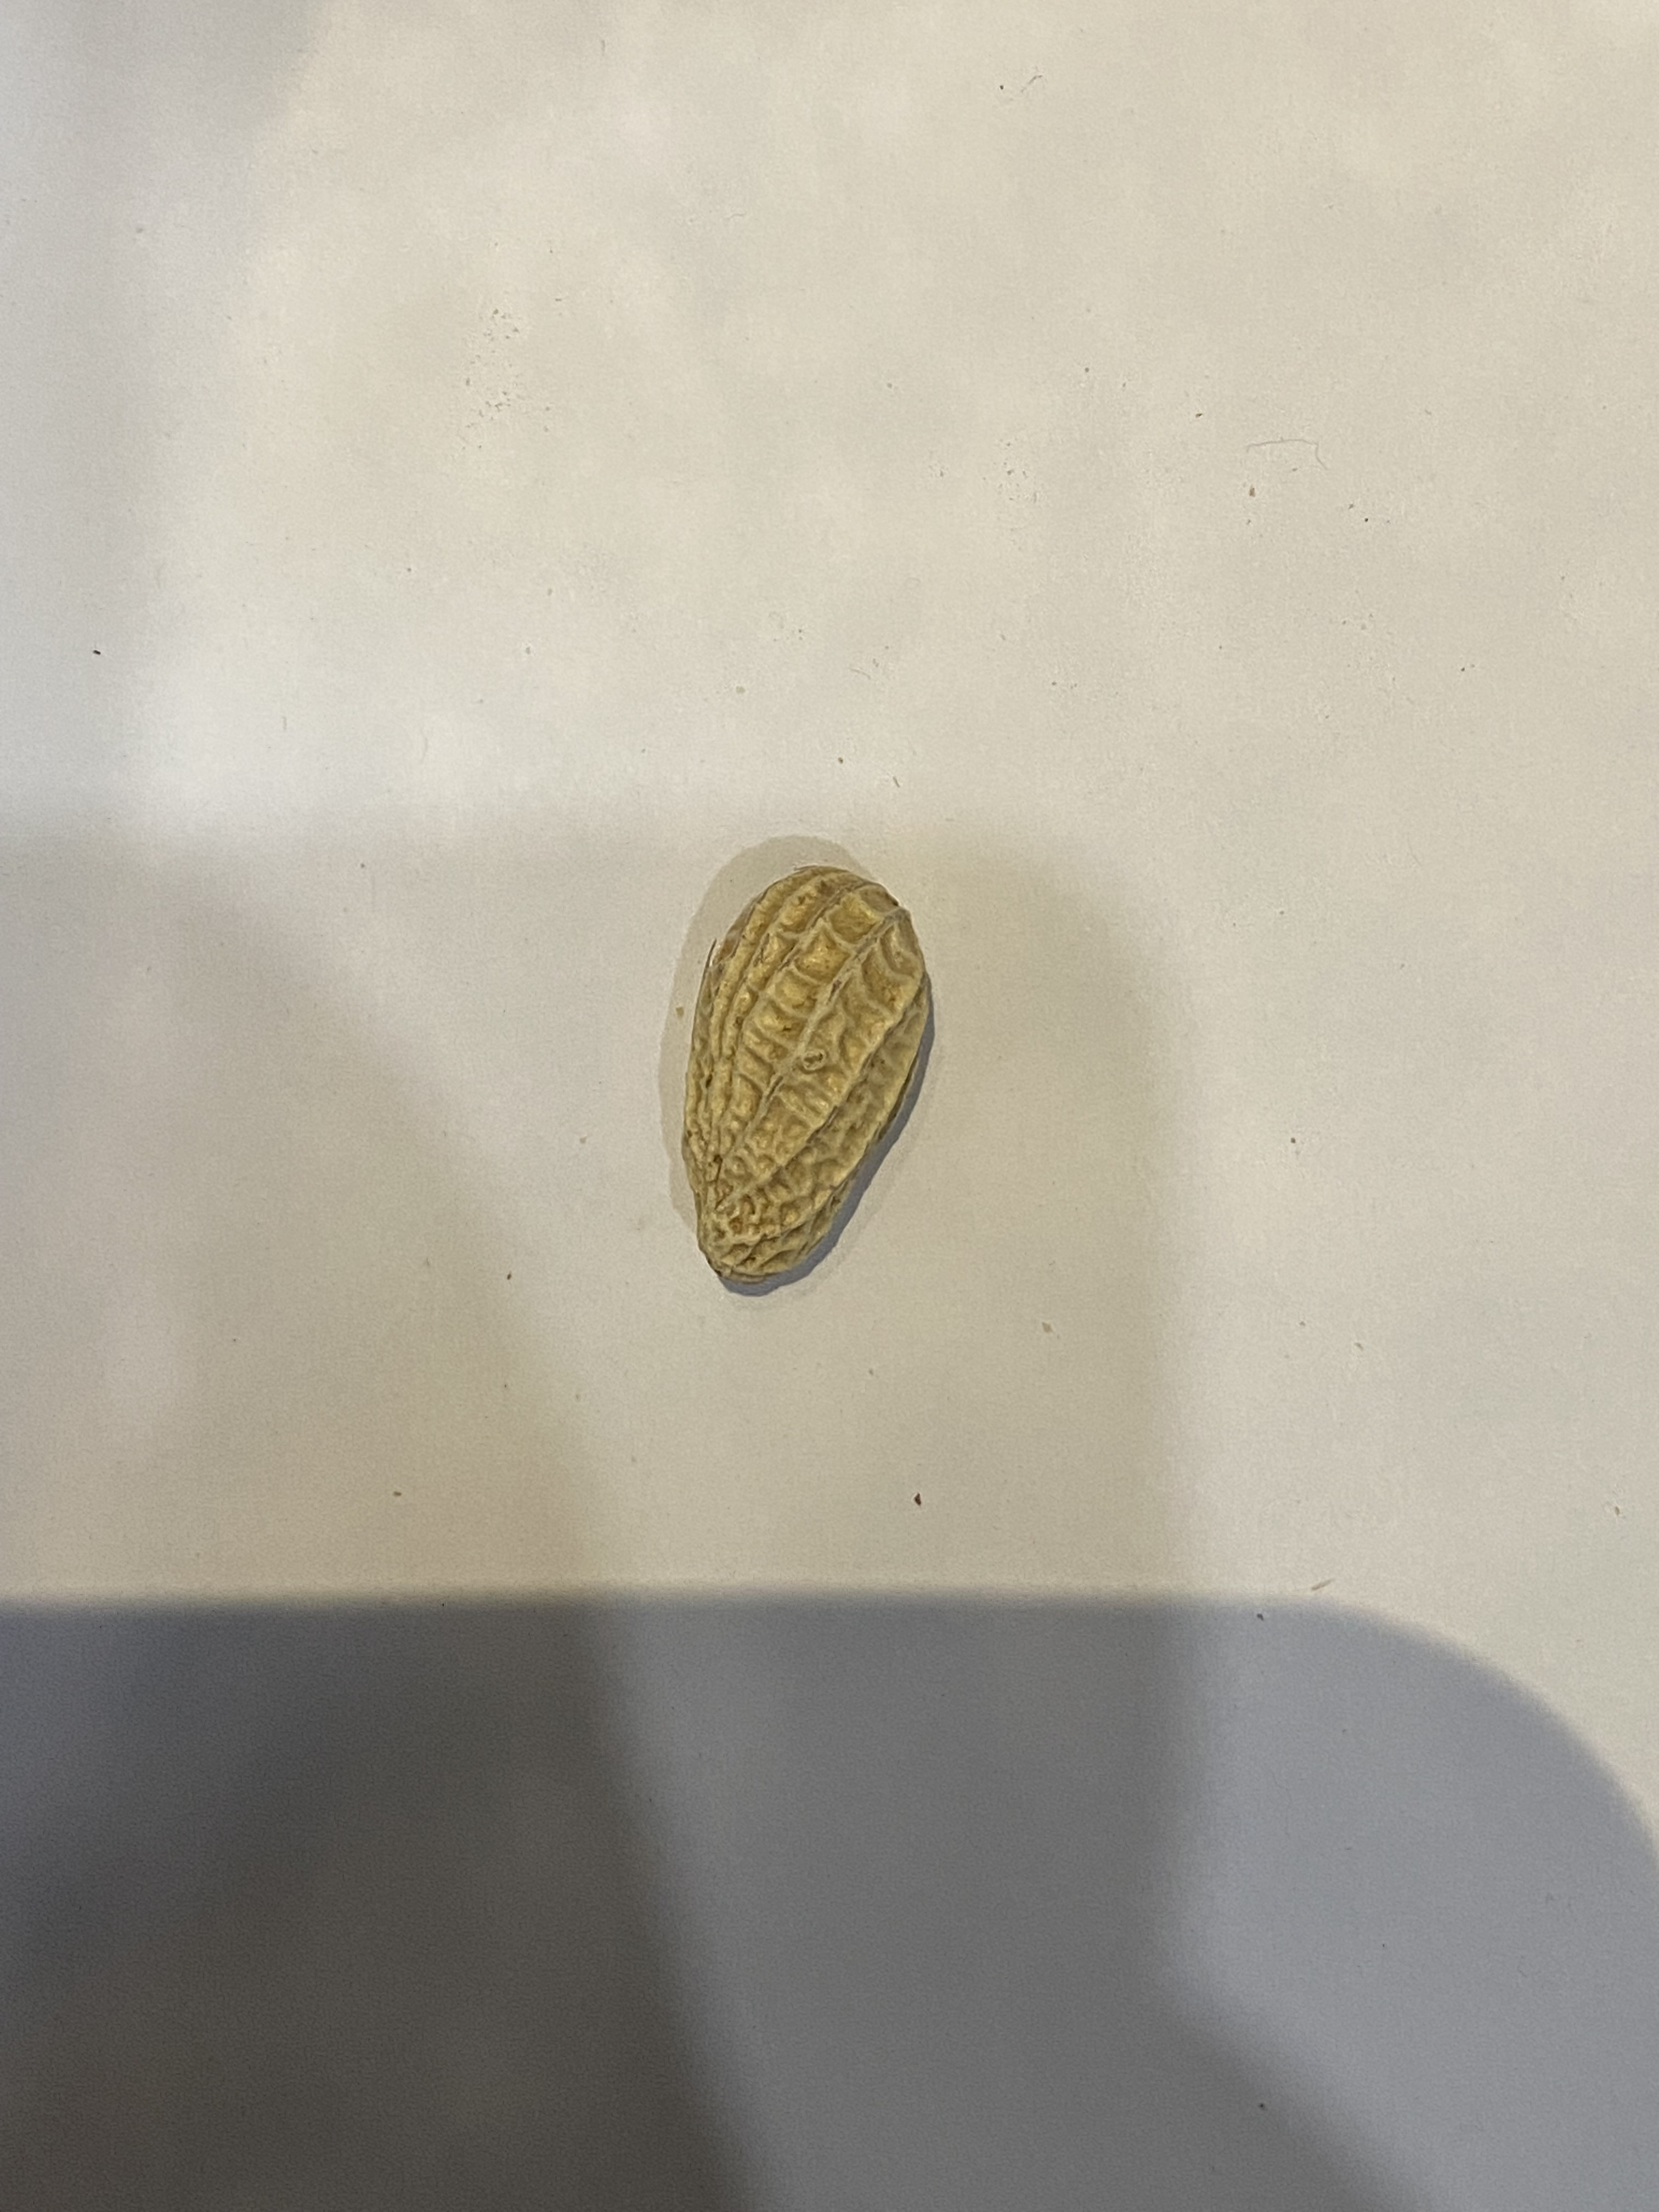kacang1: (612, 859, 953, 1298)
